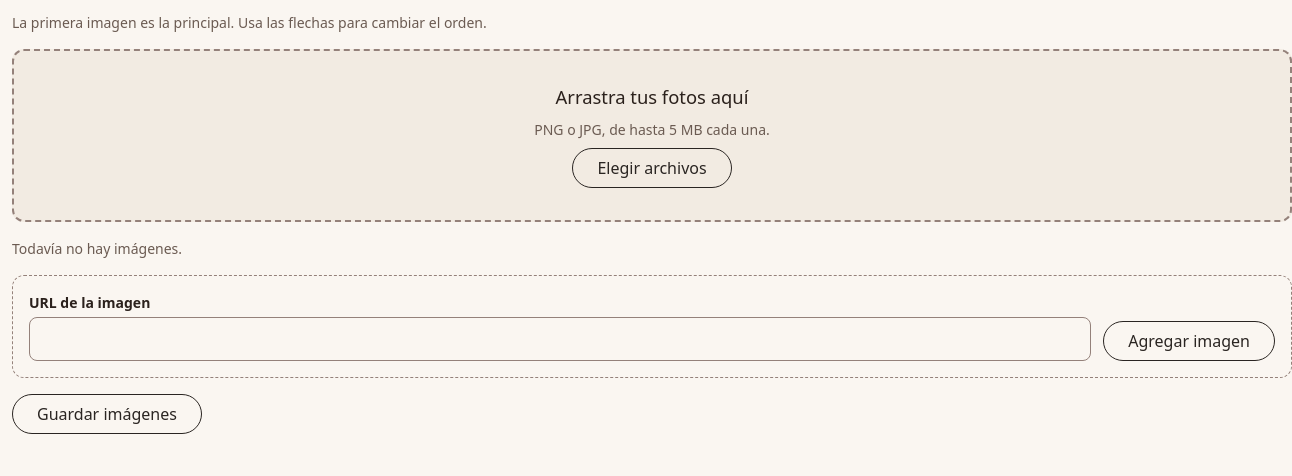
Test: ImagenesPublicacion › rechaza agregar
Click the button "Agregar imagen" at (1189, 341), box [1103,321,1275,361]
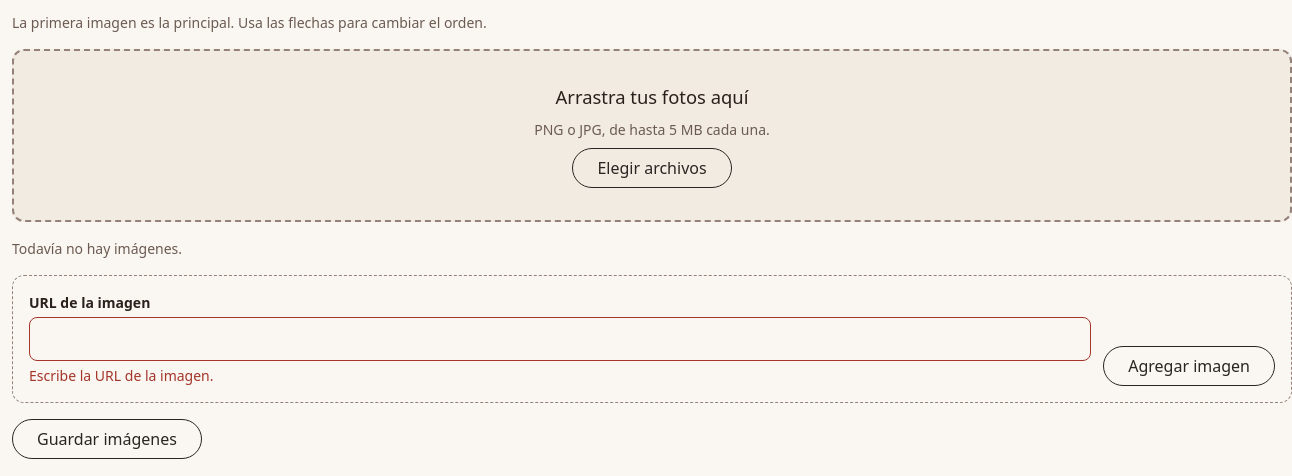
expect the text "Todavía no hay imágenes." is shown: met, box [12,239,182,258]
expect the text "Escribe la URL de la imagen." is shown: met, box [29,366,214,385]
